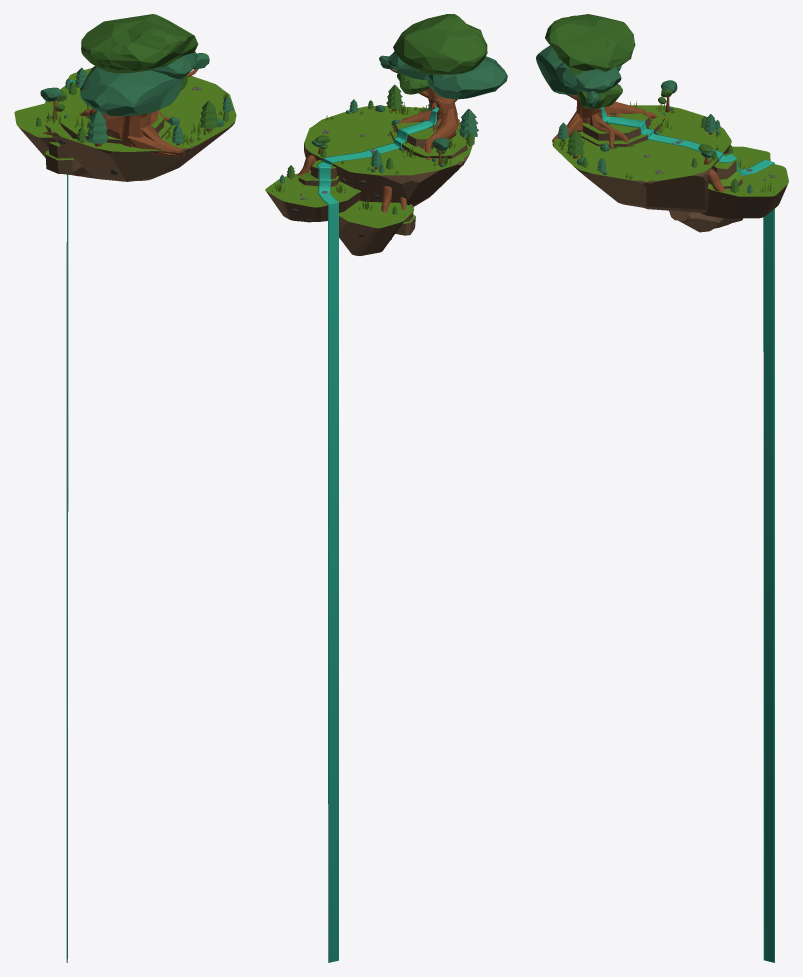
Rendered from island.fbx.
3 views of the same model, side by side, from view 1: azimuth 30°, elevation 25°; view 2: azimuth 150°, elevation 25°; view 3: azimuth 270°, elevation 25° (orthographic). The views are drawn at different scales.
Parts seen in each view (by area): view 1: island; view 2: island; view 3: island.
Boxes of the visible parts, box(x1,y1,x2,y2) form: island: box(14, 14, 236, 962); island: box(265, 14, 507, 962); island: box(536, 14, 788, 962).
Bounding box in the file's own units: 632 × 3453 × 852.
